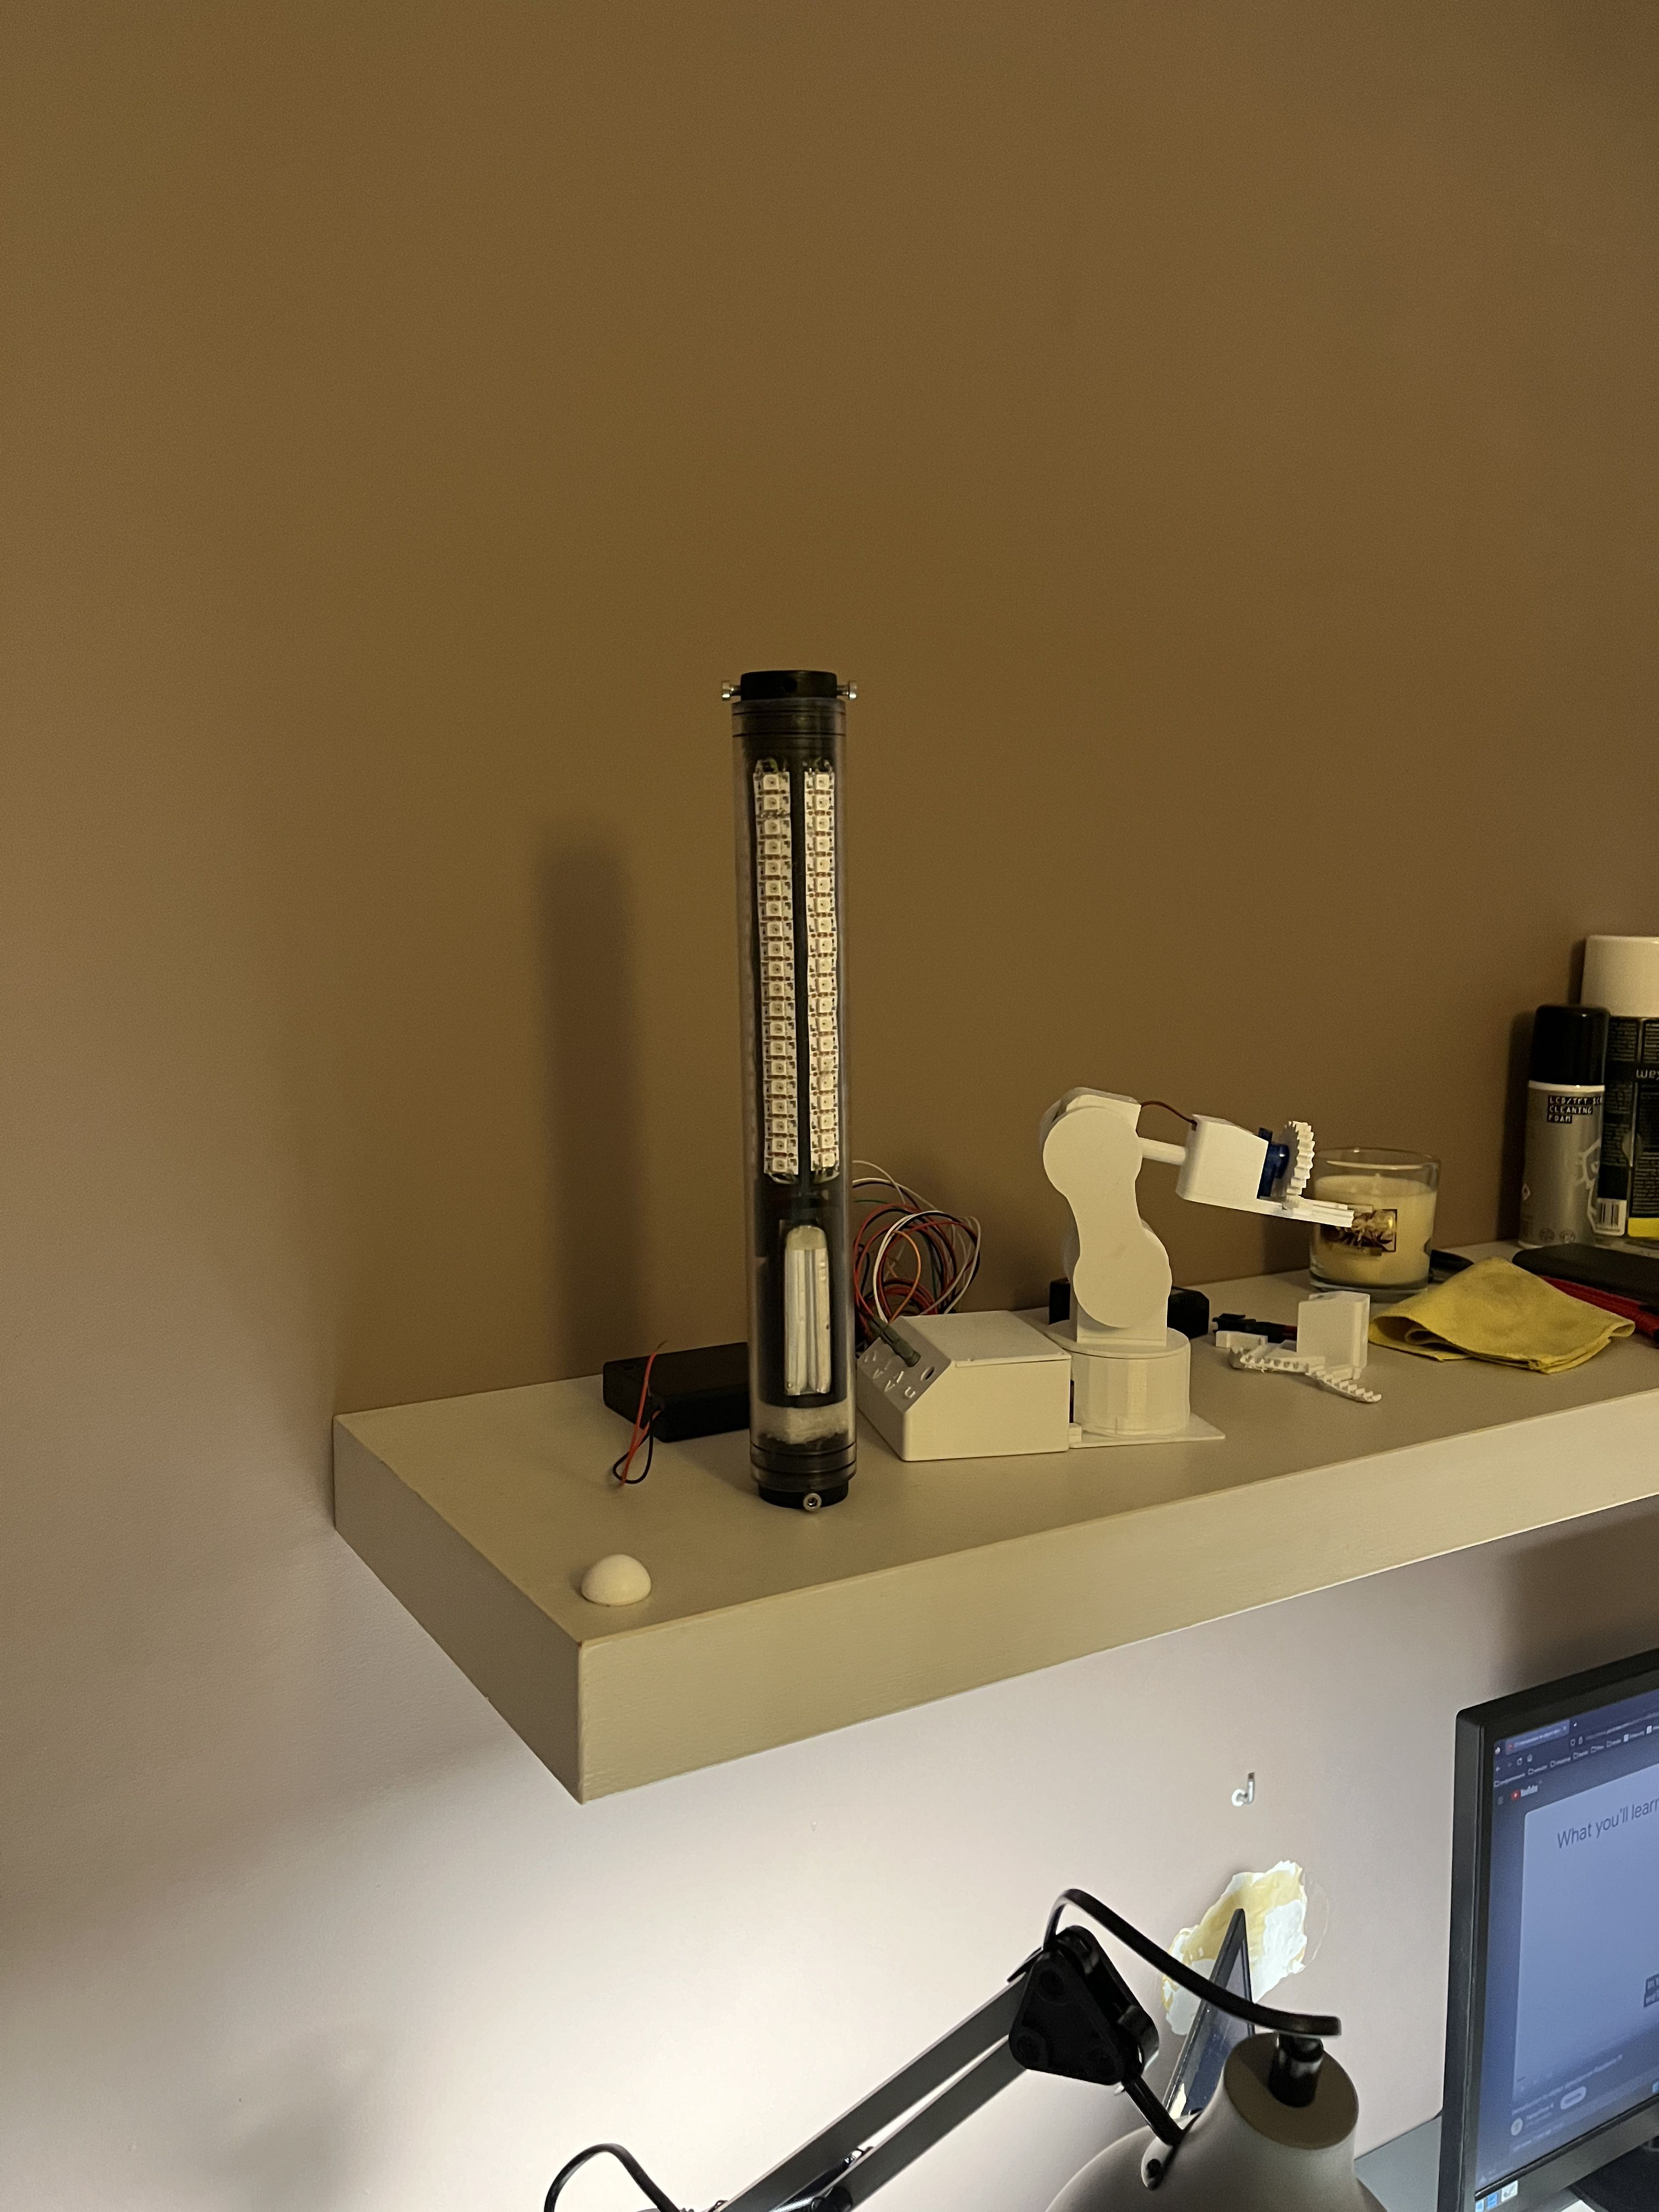black: (730, 693, 866, 1510)
